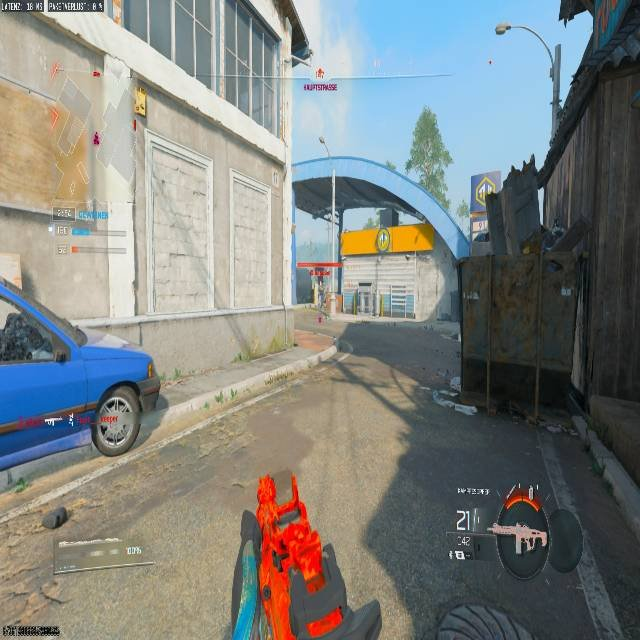player: (315, 275, 333, 324)
